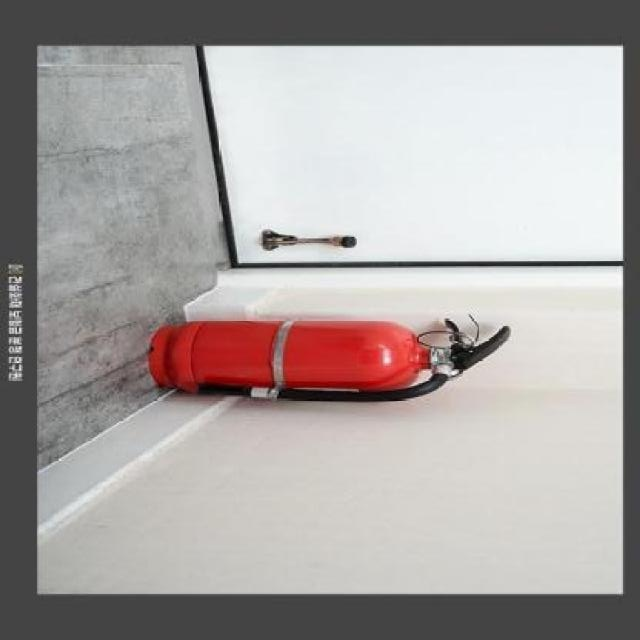fire extinguisher: (149, 314, 513, 401)
